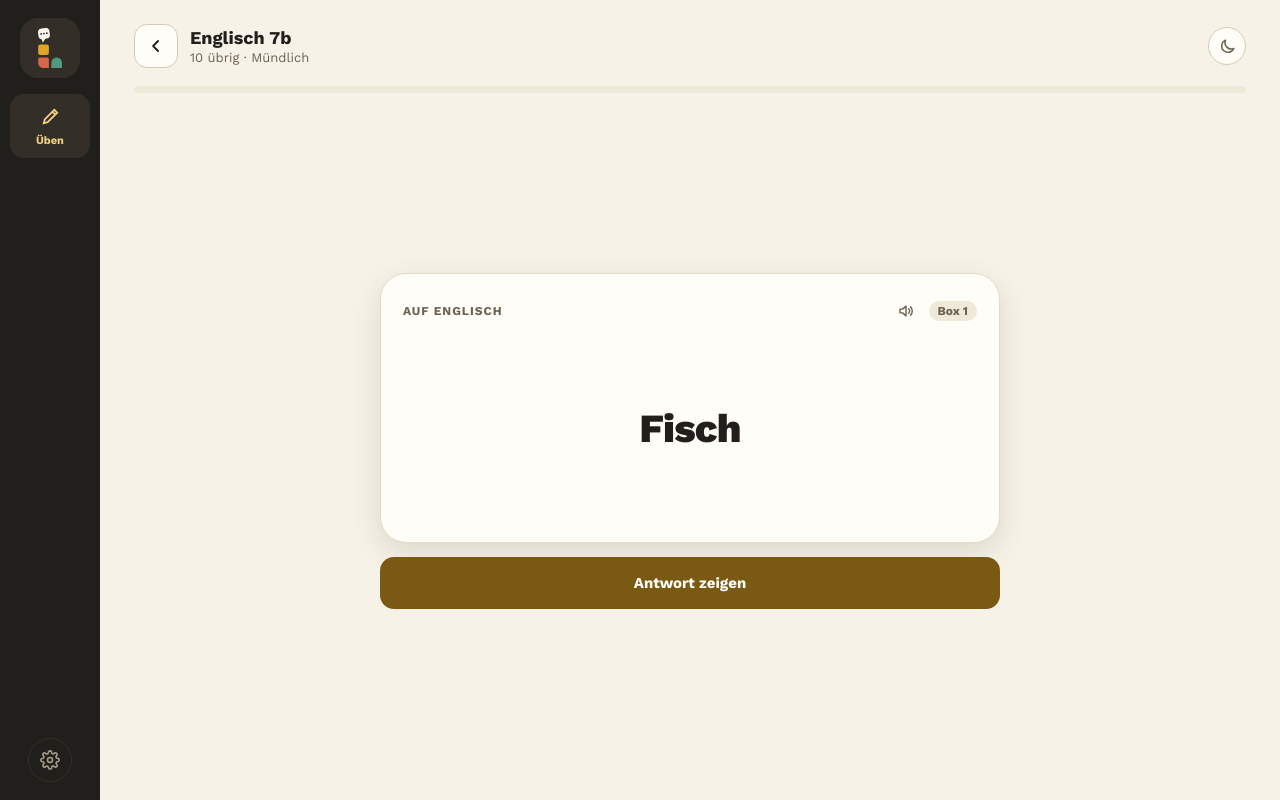
Test: LernBox: Runde fortsetzen (C-001) › bietet nach drei Antworten und Neuladen „Weitermachen (3 von 10)“ an und zählt nichts doppelt
The width and height of the screenshot is (1280, 800).
Earlier steps of the test are not shown.
Later steps or results of the test are not shown.
Click the button "Antwort zeigen" at (690, 582), box [380,556,1000,608]
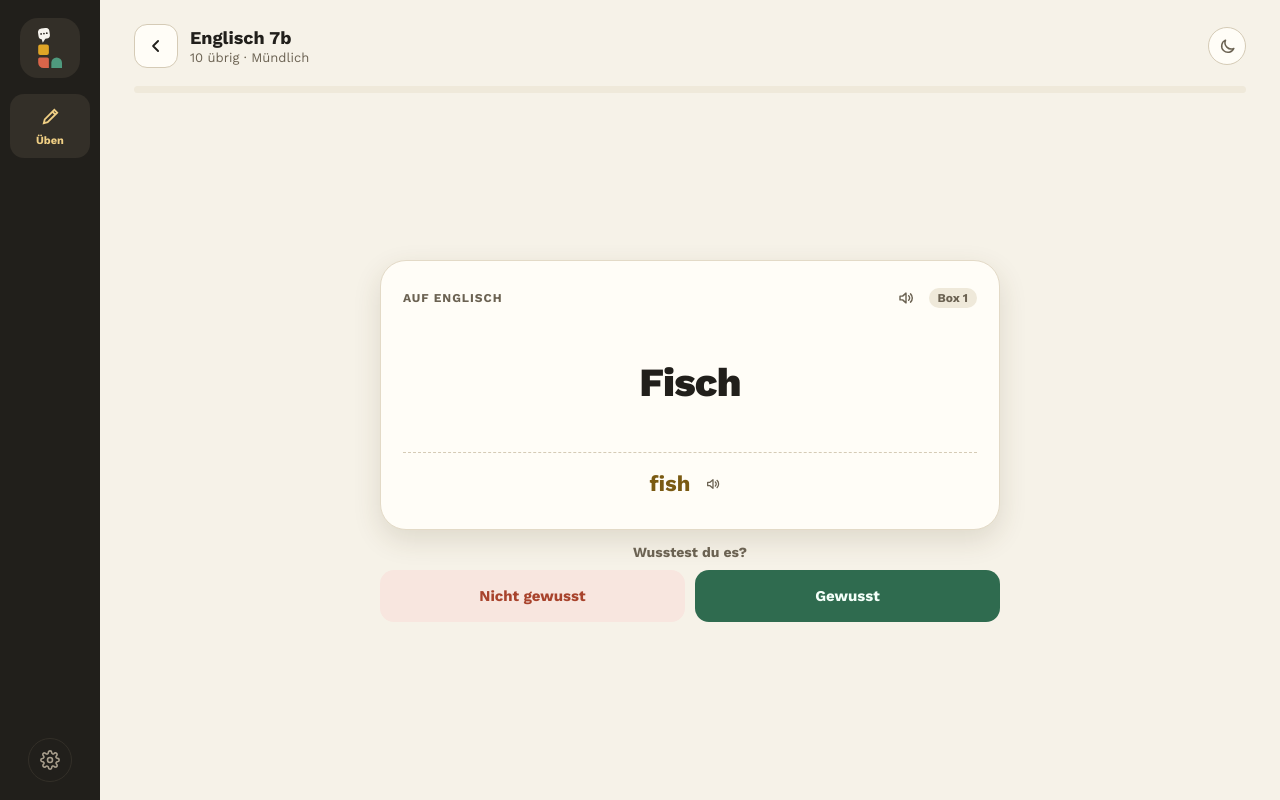
Click the button "Gewusst" at (848, 596), box [695,570,1000,622]
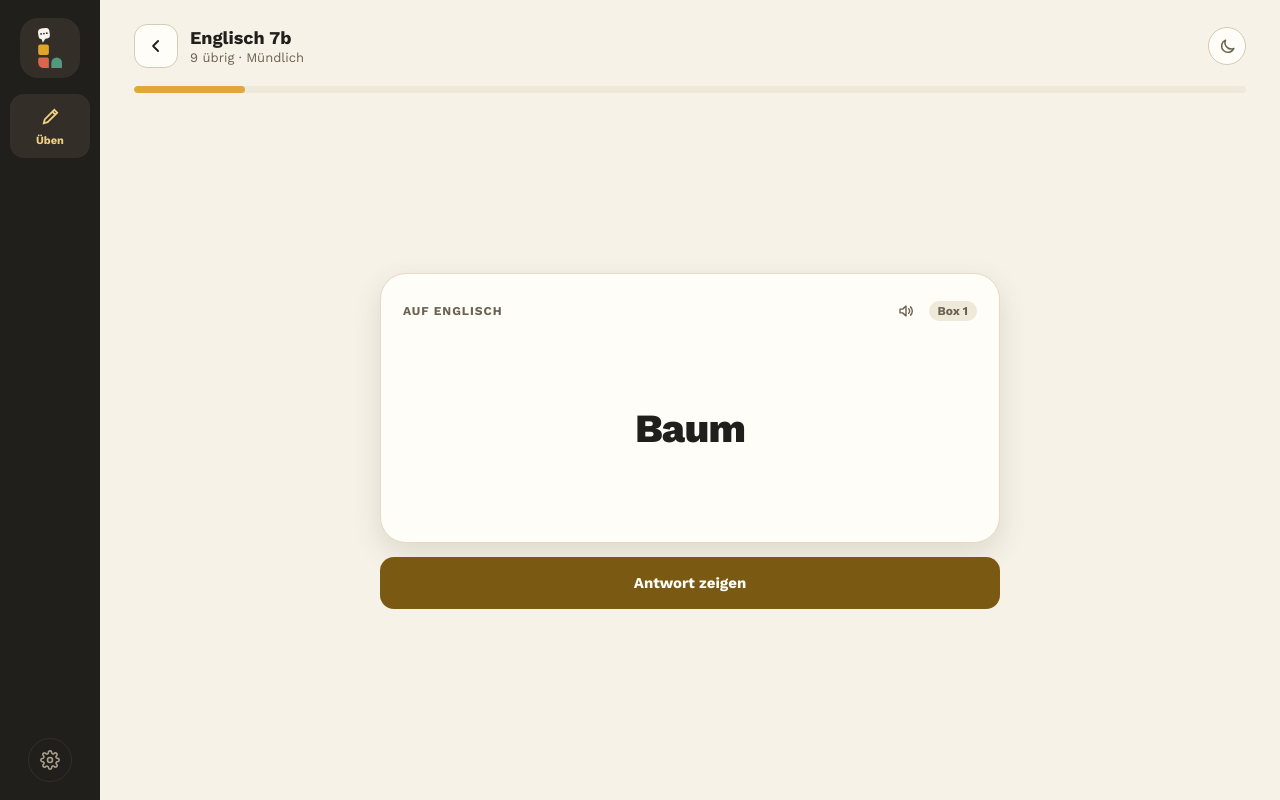
Now the heading "Fisch" no longer shows "Fisch"
Click the button "Antwort zeigen" at (690, 582), box [380,556,1000,608]
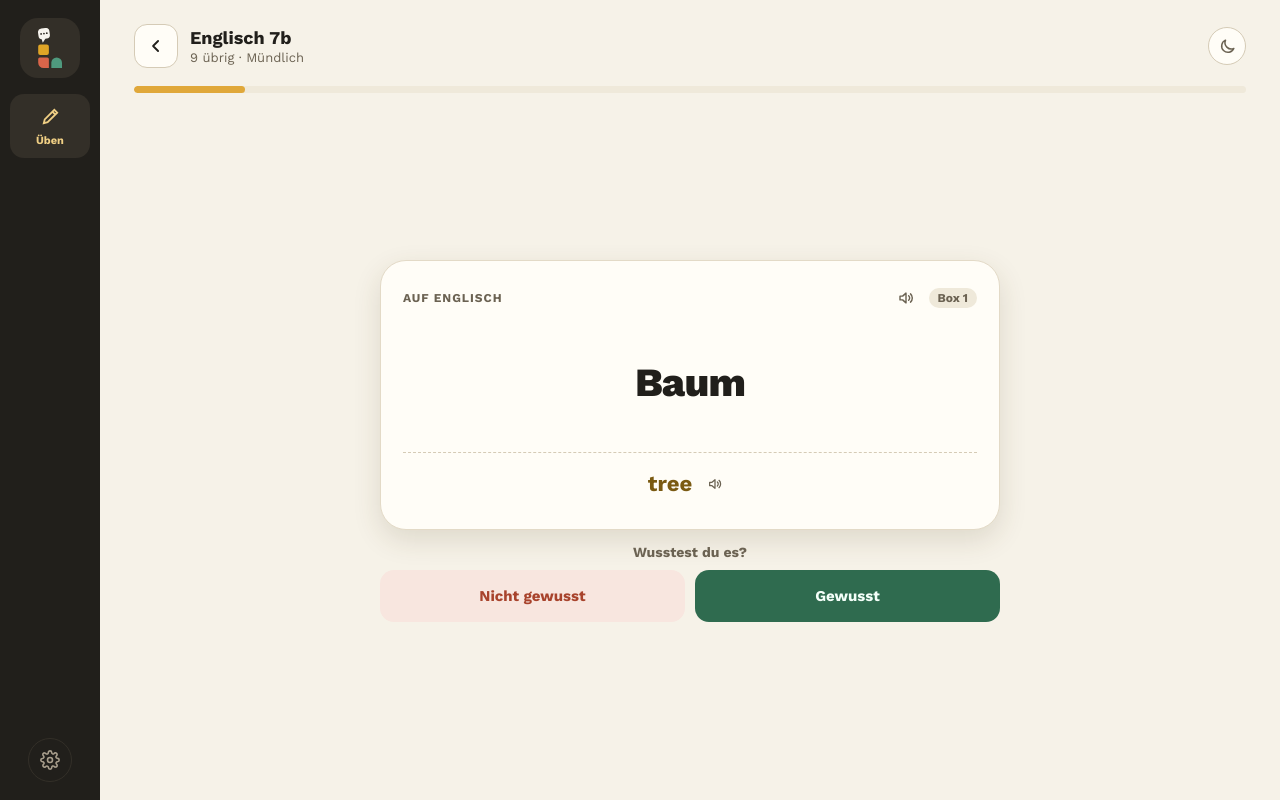
Click the button "Gewusst" at (848, 596), box [695,570,1000,622]
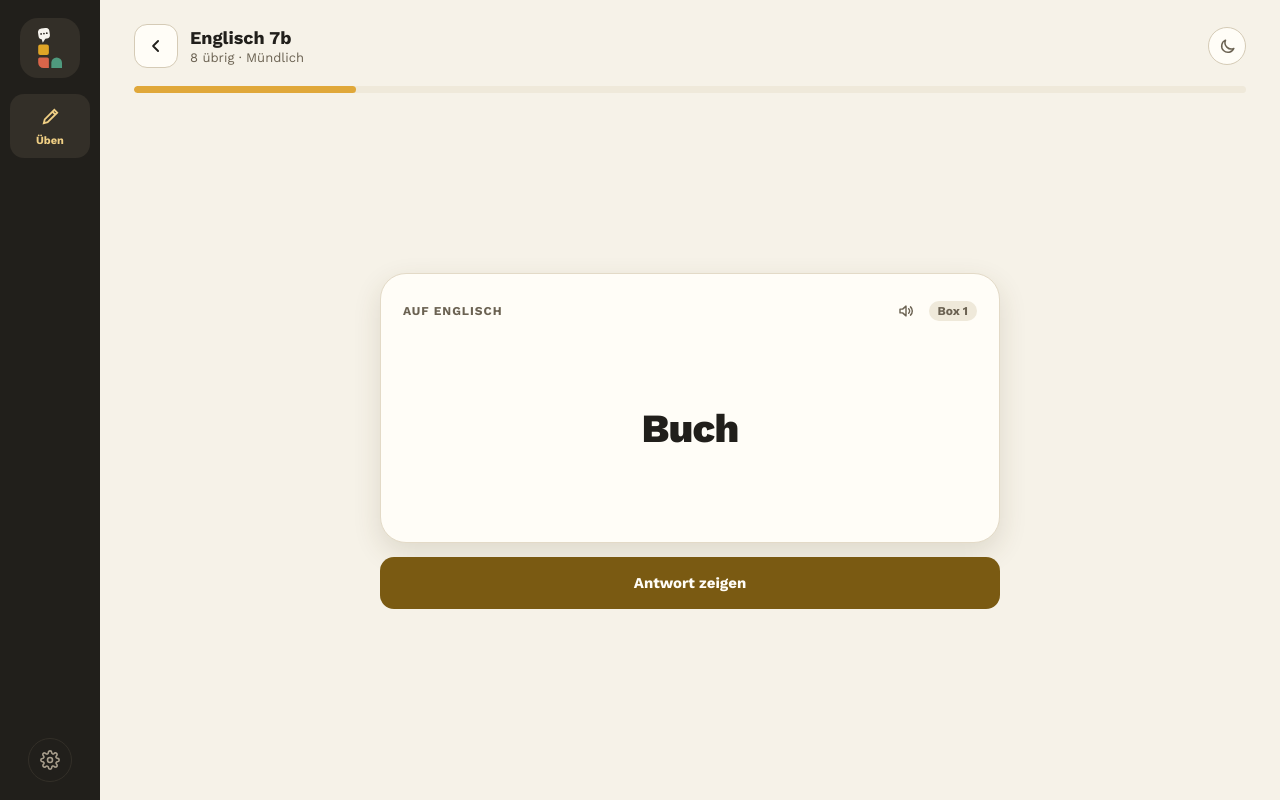
Now the heading "Baum" no longer shows "Baum"
Click the button "Antwort zeigen" at (690, 582), box [380,556,1000,608]
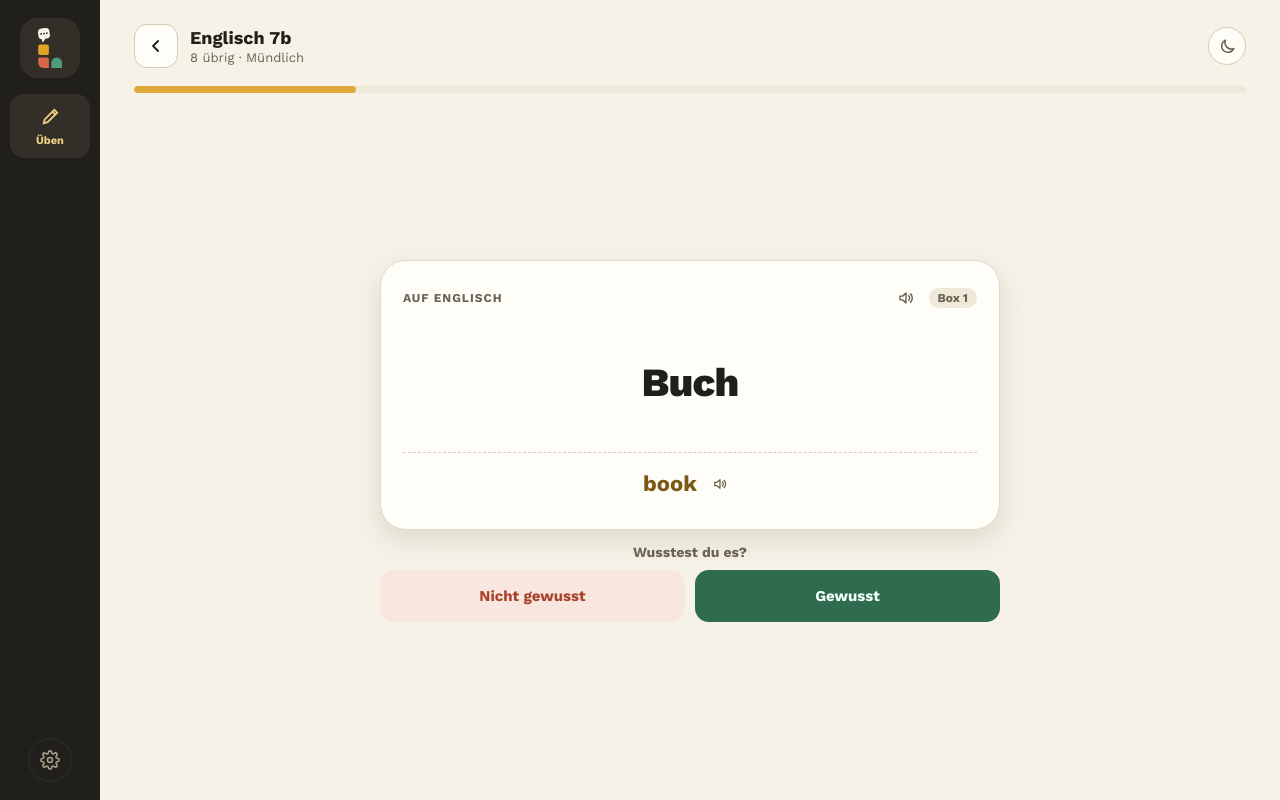
Click the button "Gewusst" at (848, 596), box [695,570,1000,622]
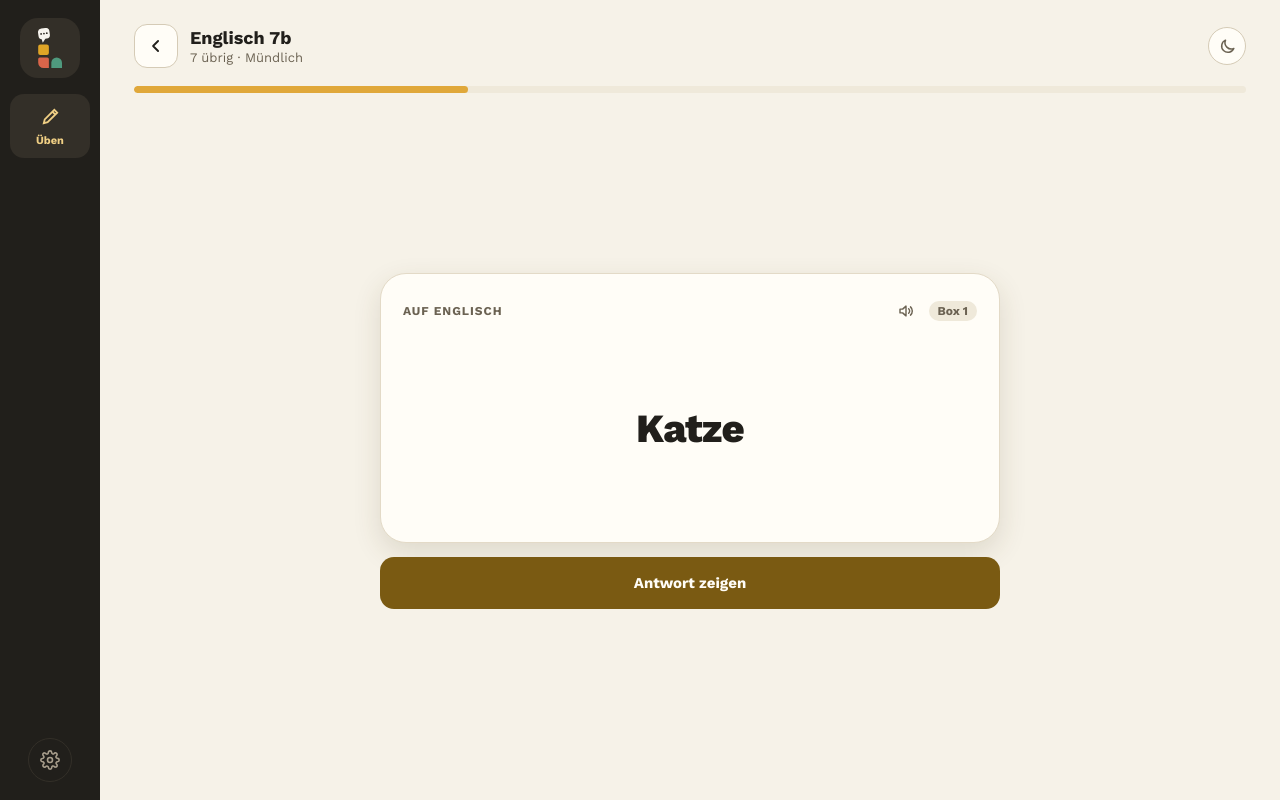
Now the heading "Buch" no longer shows "Buch"
